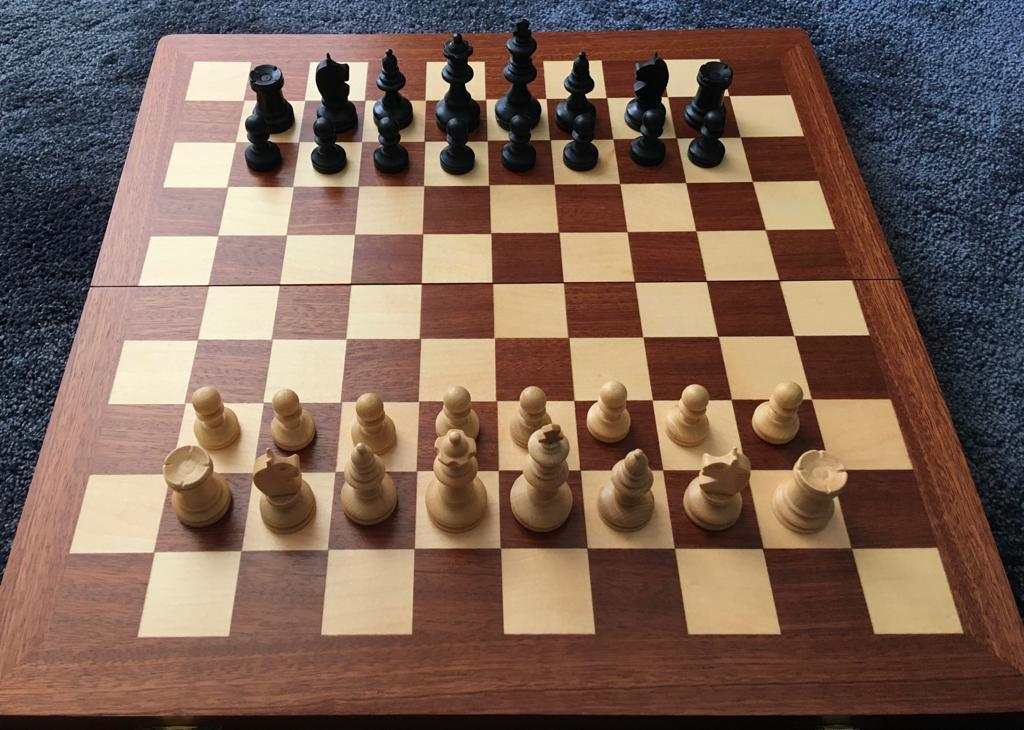schaak: (3, 30, 1024, 730), (429, 424, 489, 534), (773, 450, 848, 538), (515, 423, 573, 529), (167, 444, 234, 528), (252, 449, 318, 531), (685, 451, 753, 529), (499, 20, 540, 126), (602, 452, 657, 531), (345, 442, 397, 525), (187, 383, 245, 449), (624, 51, 671, 132), (751, 381, 806, 443), (688, 56, 732, 133), (440, 31, 475, 125), (557, 50, 598, 130), (248, 64, 295, 133), (557, 119, 609, 180), (312, 53, 358, 120), (269, 387, 316, 451), (586, 381, 633, 442), (377, 50, 415, 124), (667, 383, 711, 445), (352, 393, 397, 453), (242, 112, 284, 174), (372, 111, 412, 175), (498, 113, 541, 172), (628, 109, 674, 163), (434, 386, 484, 435), (311, 111, 349, 175), (443, 114, 476, 176), (690, 109, 725, 167), (511, 384, 554, 425)
